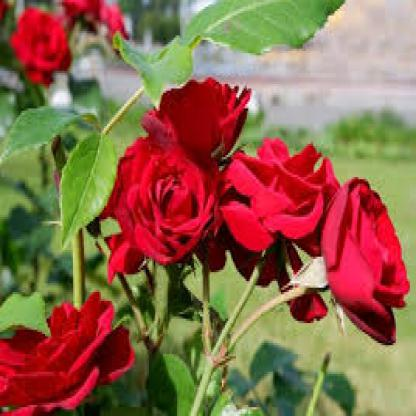Rose-Mawar: (105, 70, 415, 366), (1, 293, 135, 415), (6, 1, 133, 76)
